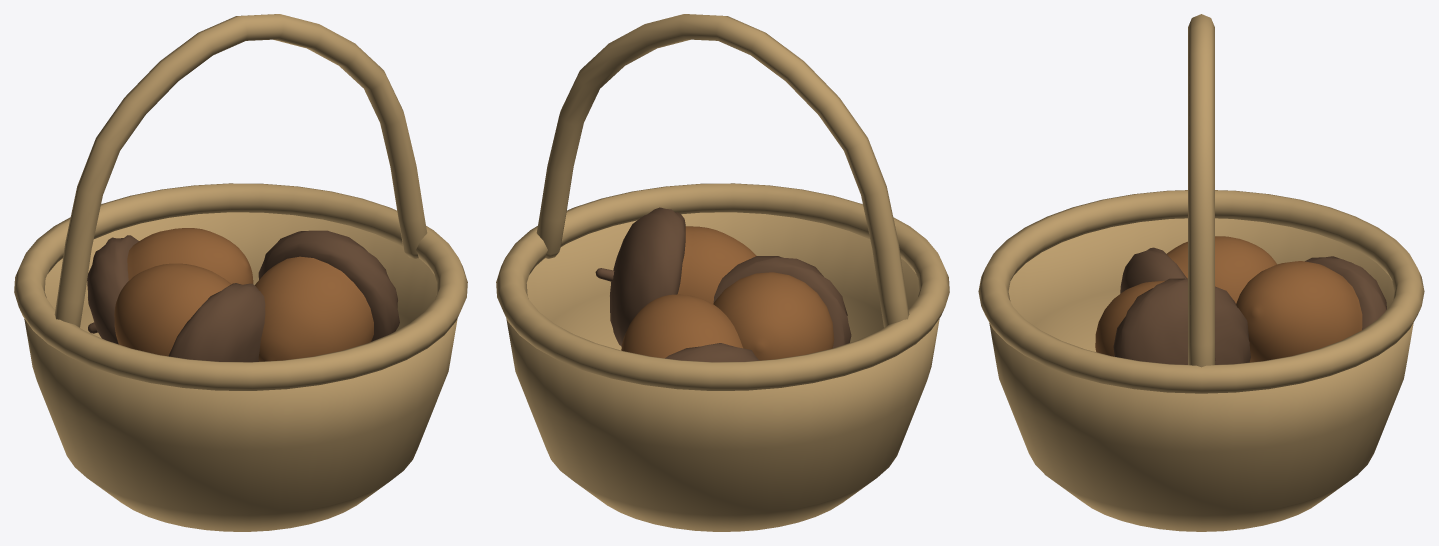
The model's file is sh_acorn_basket.fbx.
The picture shows the model from 3 angles, left to right: view 1: azimuth 30°, elevation 25°; view 2: azimuth 150°, elevation 25°; view 3: azimuth 270°, elevation 25°; orthographic projection.
Visible parts, largest first — view 1: SH_Acorn_Basket; view 2: SH_Acorn_Basket; view 3: SH_Acorn_Basket.
Boxes of the visible parts, box(x1,y1,x2,y2) form: SH_Acorn_Basket: box(14, 14, 467, 531); SH_Acorn_Basket: box(496, 14, 949, 531); SH_Acorn_Basket: box(978, 14, 1424, 531).
Bounding box in the file's own units: 14.8 × 16.45 × 14.8.
